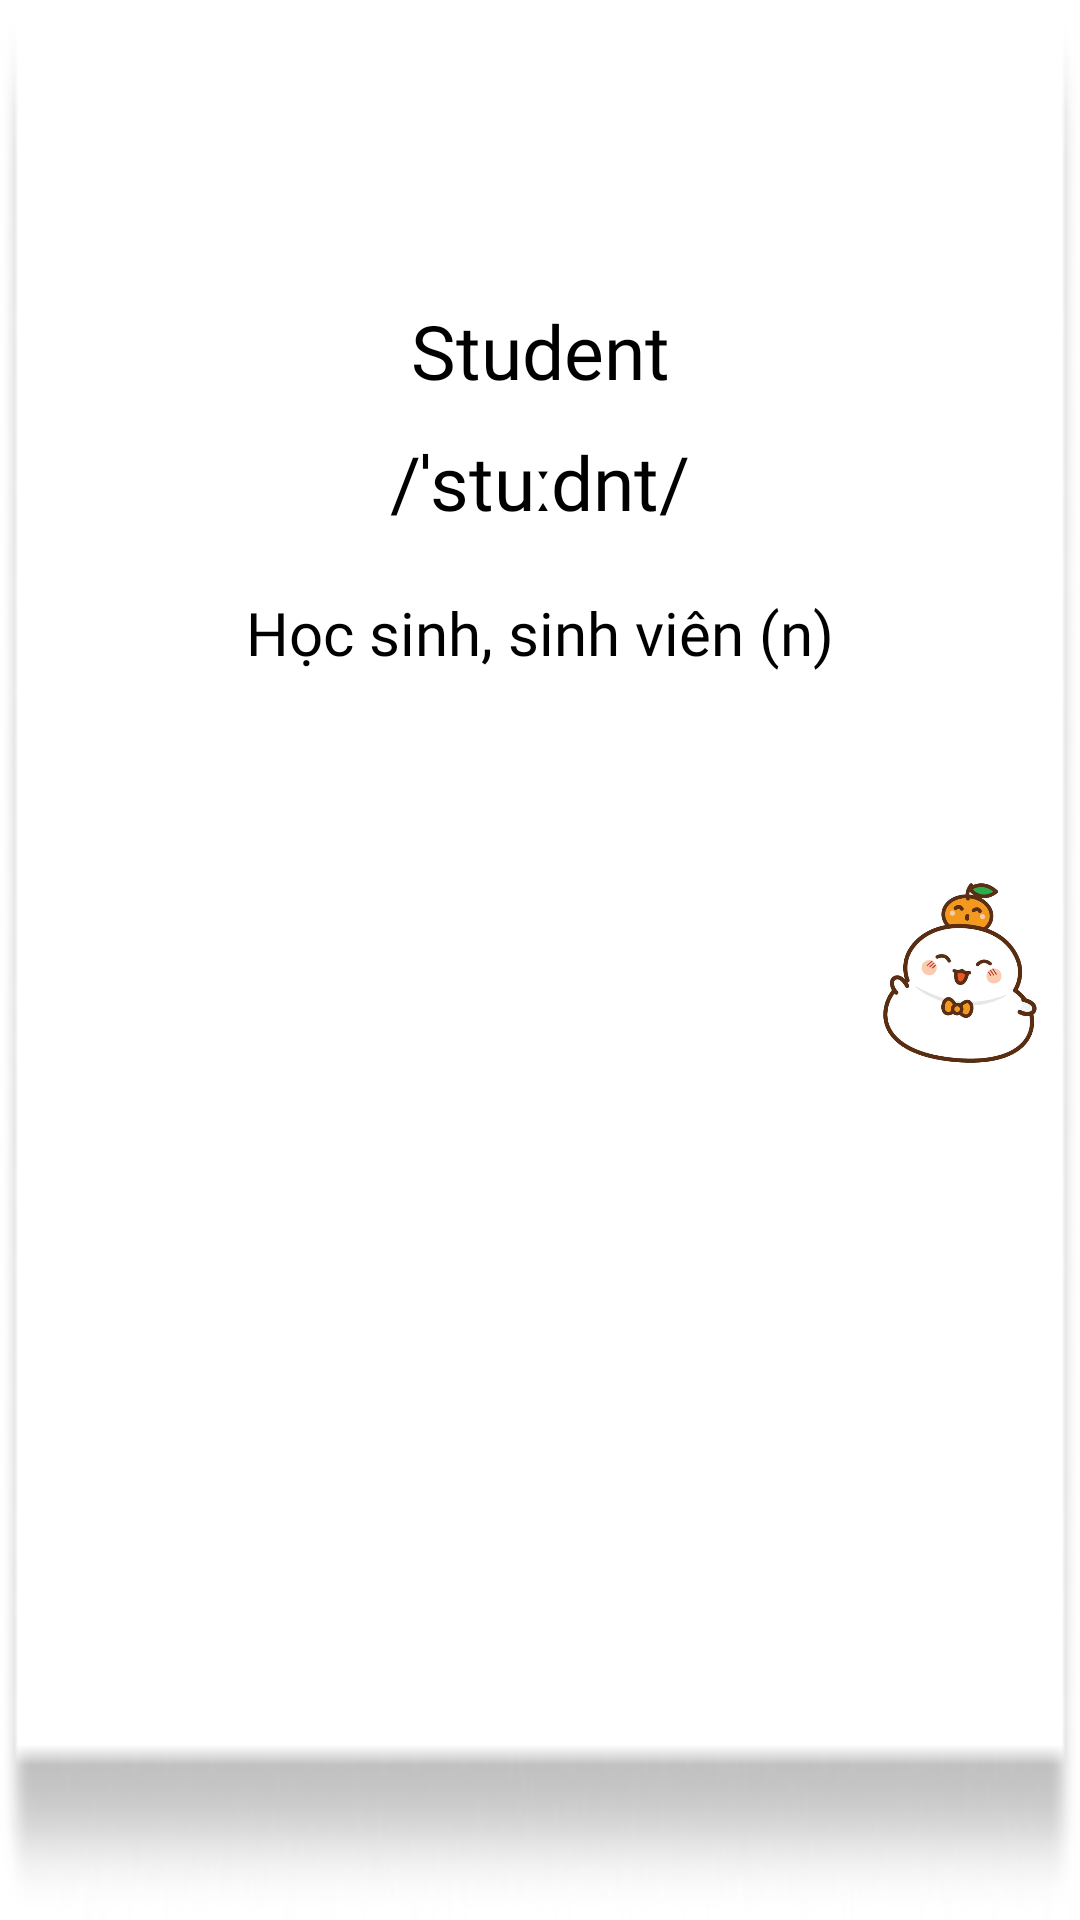

Icons on this 1080x1920 Android screen, each with the point to tap as [x,y]:
funny: [960,973]
